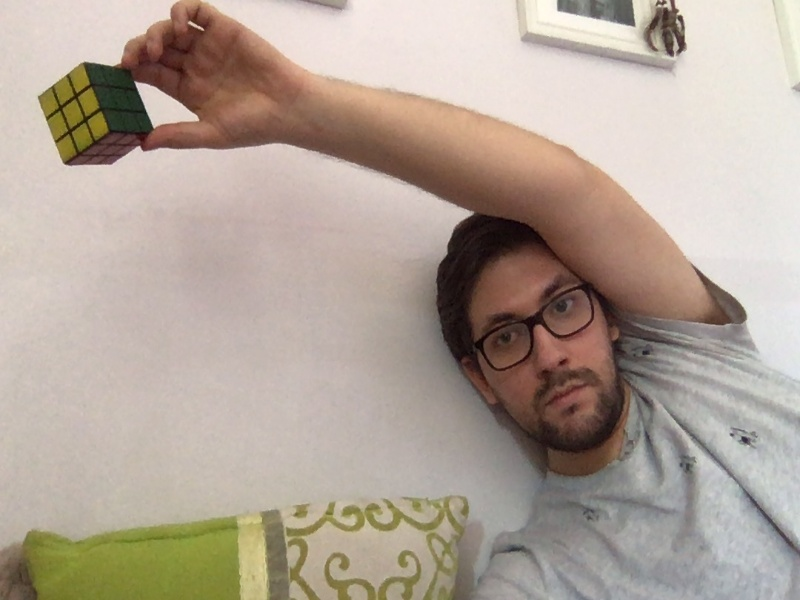rubik: (38, 63, 154, 166)
